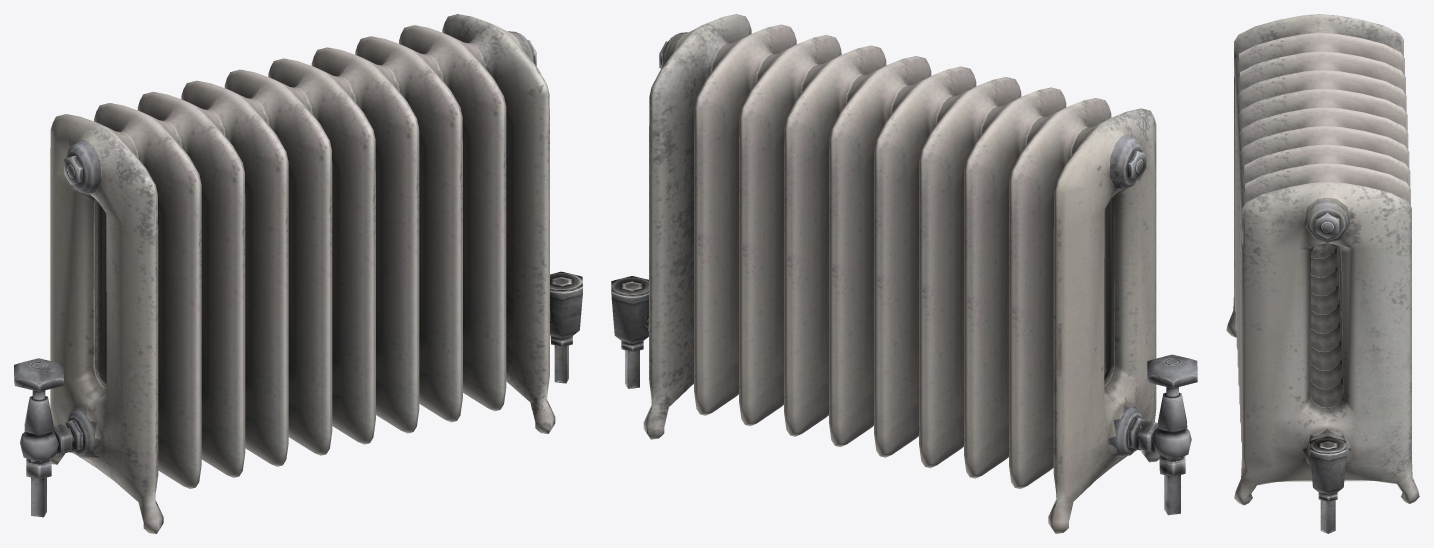
The model's file is Radiador.fbx.
The picture shows the model from 3 angles, left to right: view 1: azimuth 30°, elevation 25°; view 2: azimuth 150°, elevation 25°; view 3: azimuth 270°, elevation 25°; orthographic projection. The views are drawn at different scales.
Visible parts, largest first — view 1: main.006; view 2: main.006; view 3: main.006.
Boxes of the visible parts, x1,y1,x2,y2 form: main.006: (14, 14, 582, 533); main.006: (611, 14, 1197, 533); main.006: (1226, 14, 1419, 533).
Bounding box in the file's own units: 162 × 99.92 × 54.51.
1 material, 1 textured.
